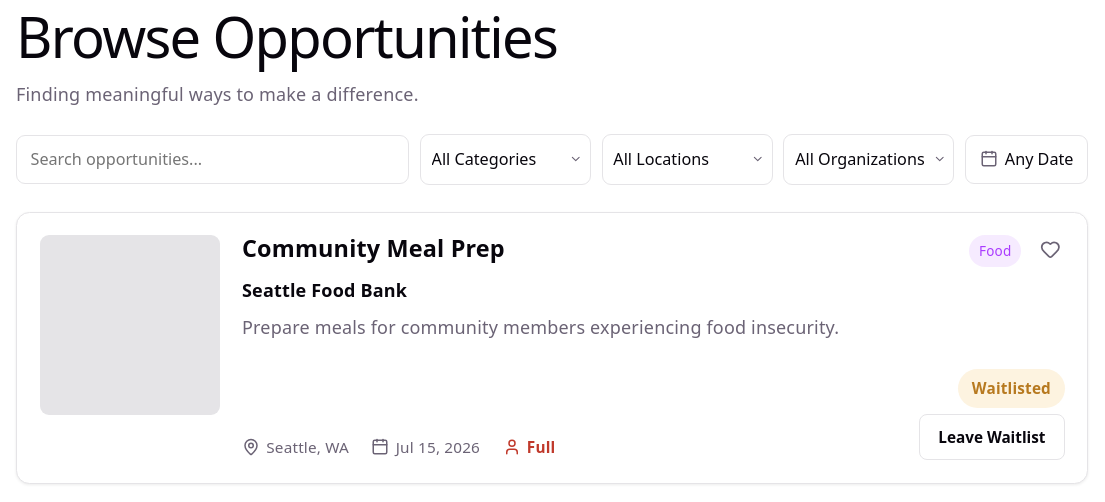
OpportunitiesPage › shows a Register button after leaving the waitlist if a spot opened up in the meantime
The image size is (1105, 502).
Click the button "Leave Waitlist": coordinates (992, 437) x1=919 y1=414 x2=1065 y2=460
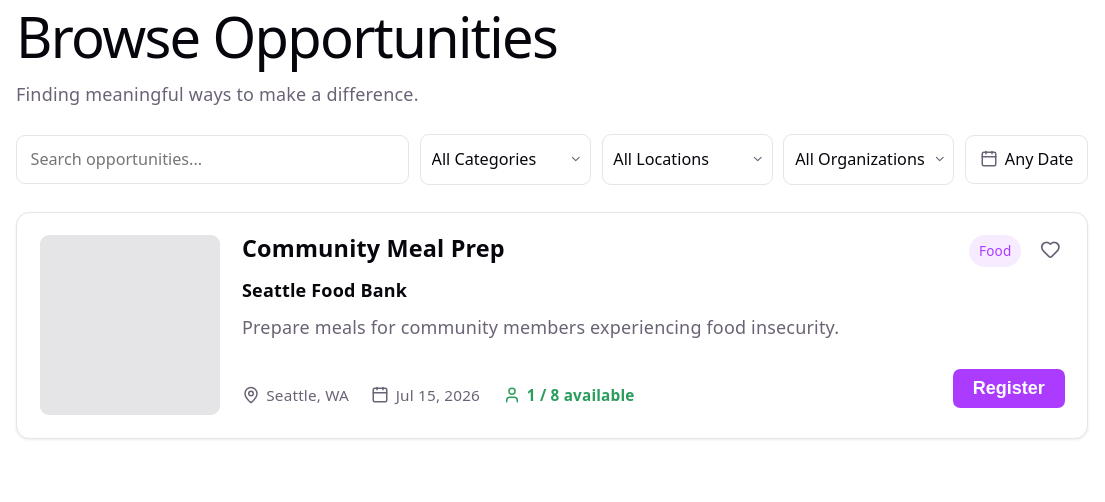
Result: the button "Register" is shown at x1=953 y1=369 x2=1064 y2=408
Result: the text "Waitlisted" is gone
